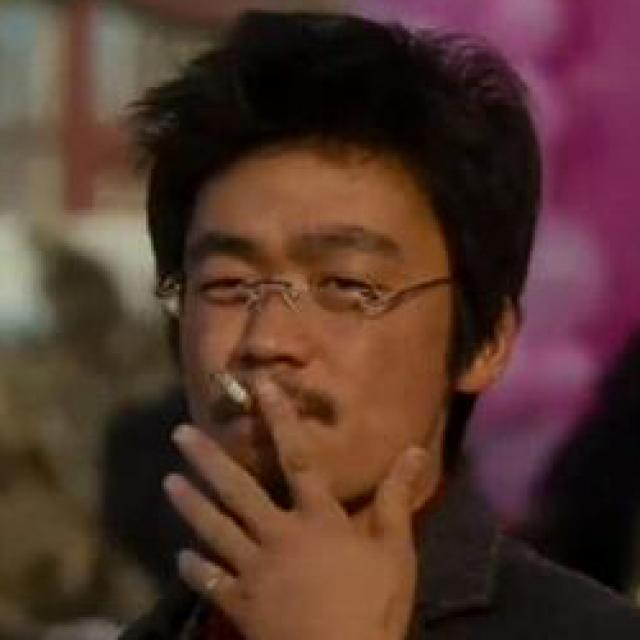Smooking: (190, 362, 258, 426)
